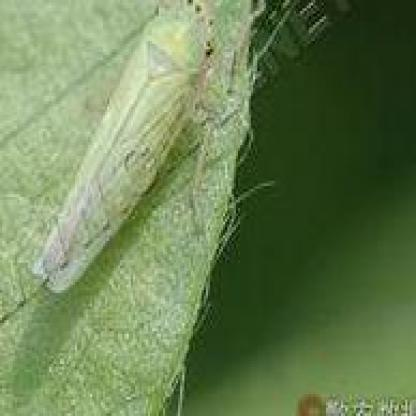Green-Leafhopper: (25, 0, 220, 303)
